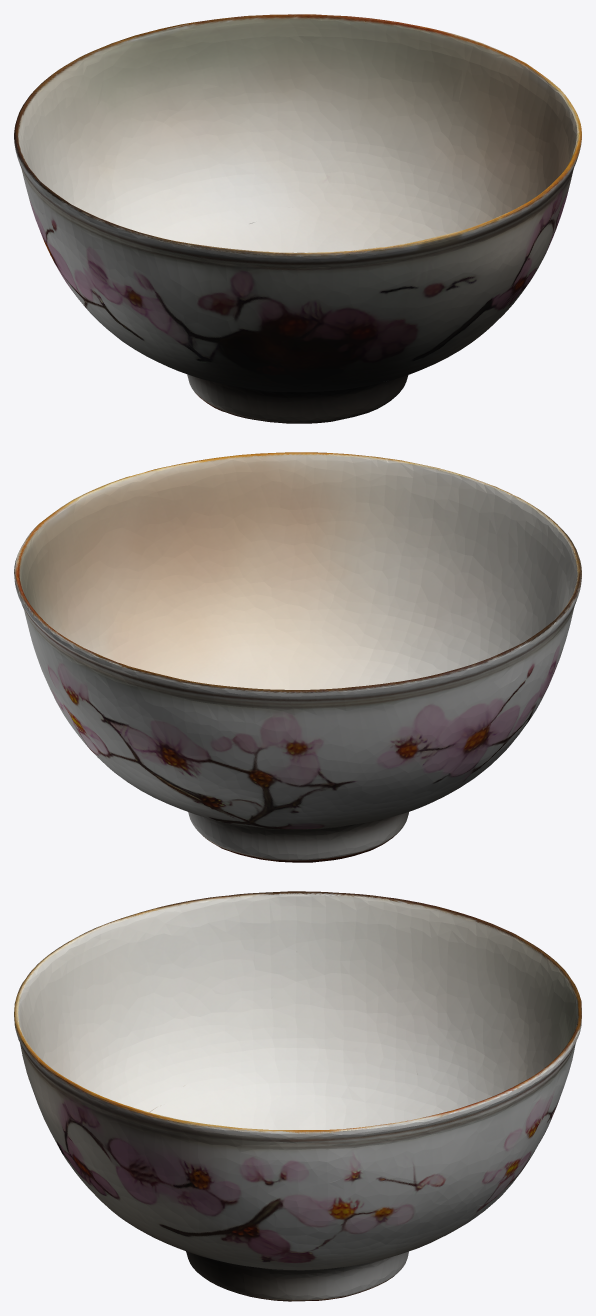
File: porcelain-dainty-bowl-japanese.jpeg.glb
3 renders of one model, top to bottom at view 1: azimuth 30°, elevation 25°; view 2: azimuth 150°, elevation 25°; view 3: azimuth 270°, elevation 25°, orthographic.
Parts seen in each view (by area): view 1: world; view 2: world; view 3: world.
Boxes of the visible parts, <box> form: world: <box>14,14,581,423</box>; world: <box>14,452,581,862</box>; world: <box>14,891,581,1301</box>.
Size of the model in its own units: 0.9991 by 0.482 by 0.9998.
Materials: 1 (1 with a texture image).
